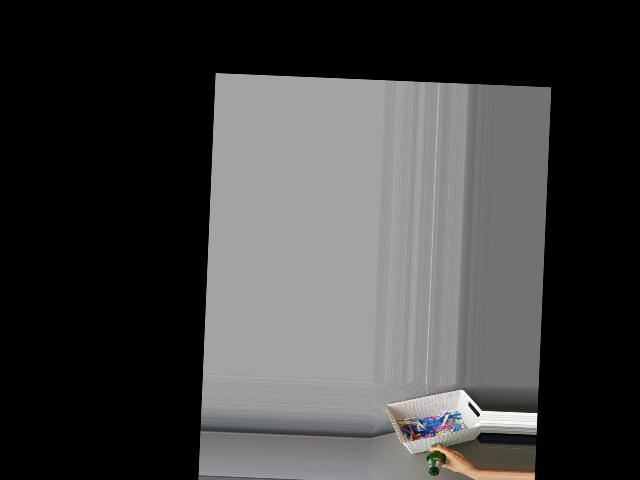beer: (425, 443, 446, 476)
